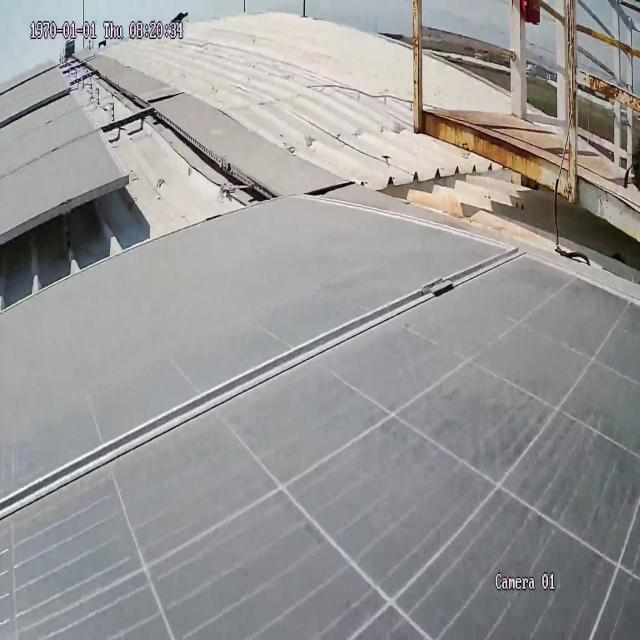interior panel: (0, 226, 534, 555)
outher panel: (0, 0, 640, 303)
